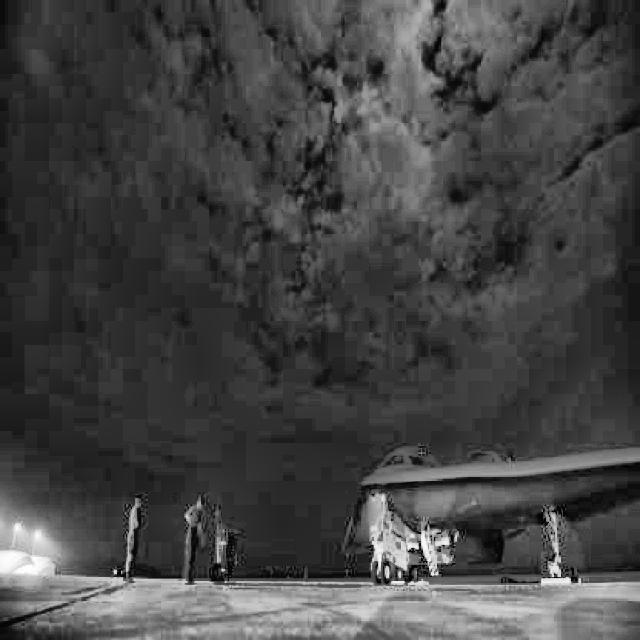B2: (340, 446, 640, 586)
